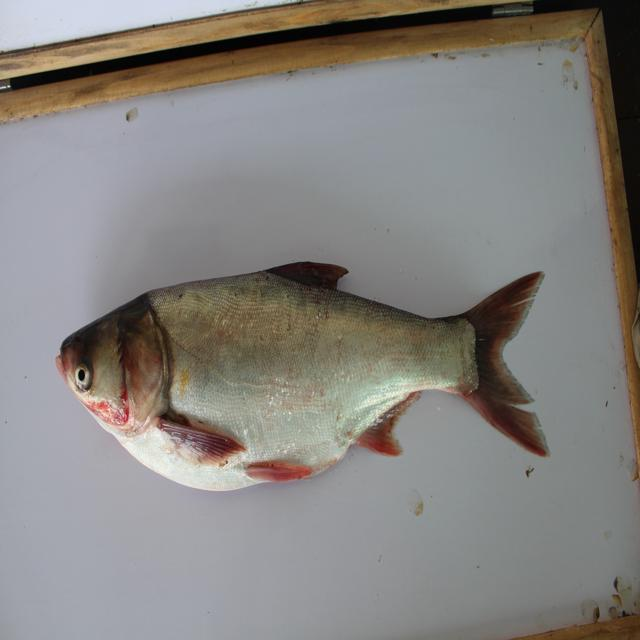SilverCarp: (44, 255, 581, 522)
